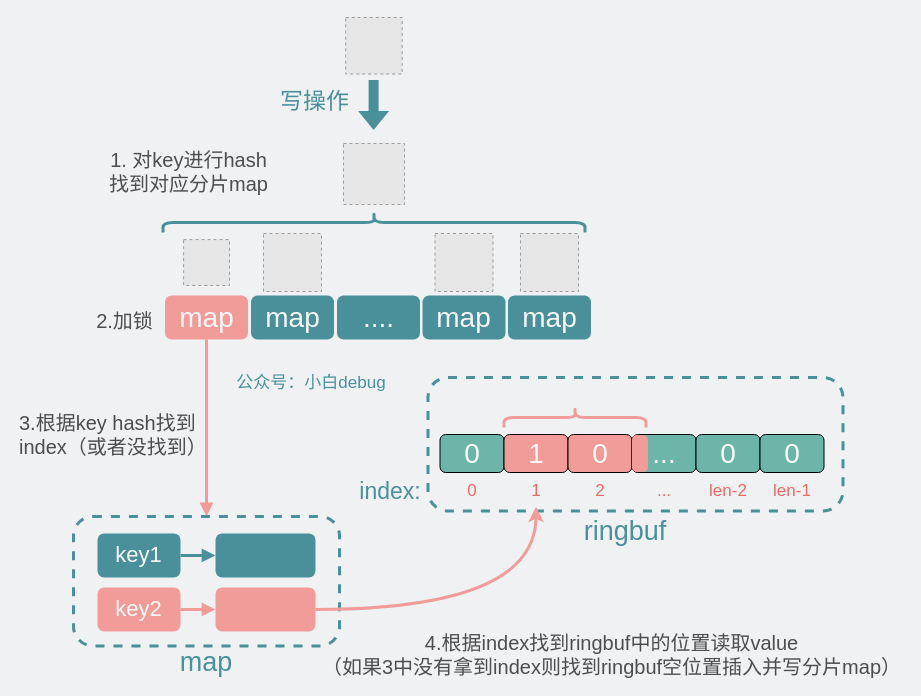
The diagram is 921 pixels wide and 696 high, and some of its shapes have lost their labels. Grey dashed boxes stand in for pictures. The box of each missing label's shape, as (x1, y1, x2, y2) in pixels:
index1: (215, 533, 315, 577)
index2: (215, 587, 315, 631)
value1: (502, 406, 647, 428)
